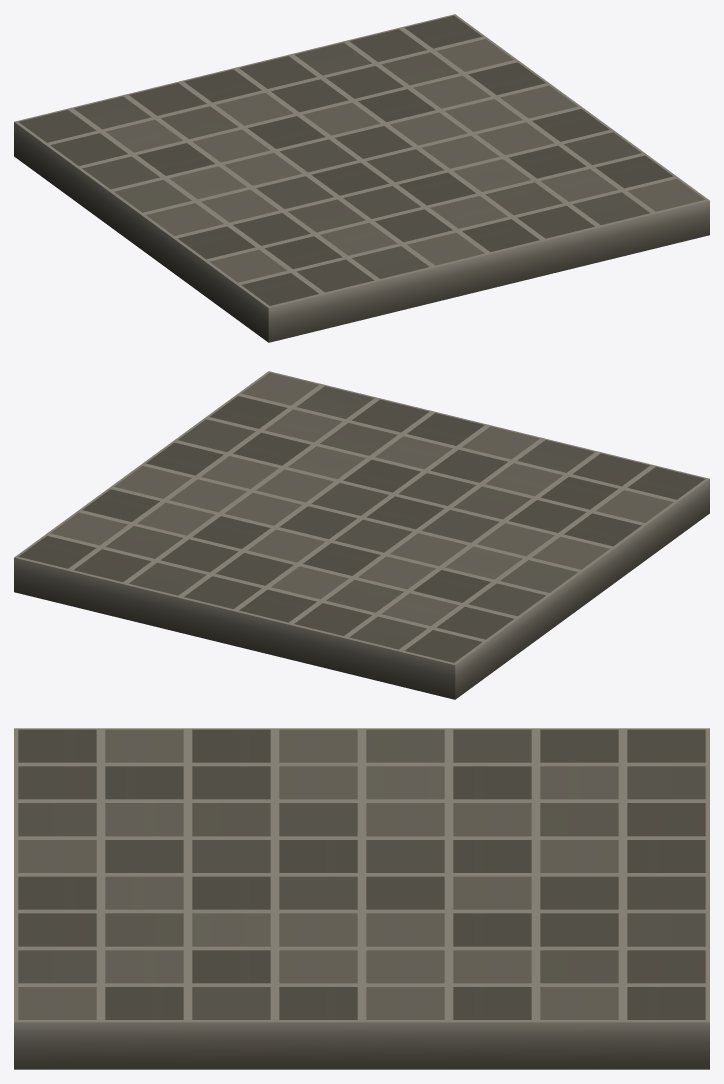
Rendered from Pavement_1Q_4x4.fbx.
3 renders of one model, top to bottom at view 1: azimuth 30°, elevation 25°; view 2: azimuth 150°, elevation 25°; view 3: azimuth 270°, elevation 25°, orthographic. The views are drawn at different scales.
Parts seen in each view (by area): view 1: Pavement_1Q_4x4; view 2: Pavement_1Q_4x4; view 3: Pavement_1Q_4x4.
Part boxes in pixels (bbox=[...]): Pavement_1Q_4x4: bbox=[14, 14, 709, 342]; Pavement_1Q_4x4: bbox=[14, 371, 709, 699]; Pavement_1Q_4x4: bbox=[14, 728, 709, 1069].
Bounding box in the file's own units: 4 × 0.3031 × 4.
